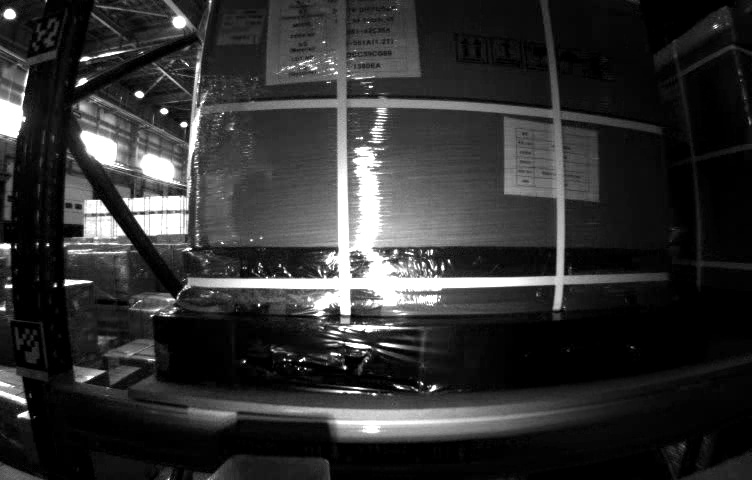True Barcode: (214, 1, 262, 45)
